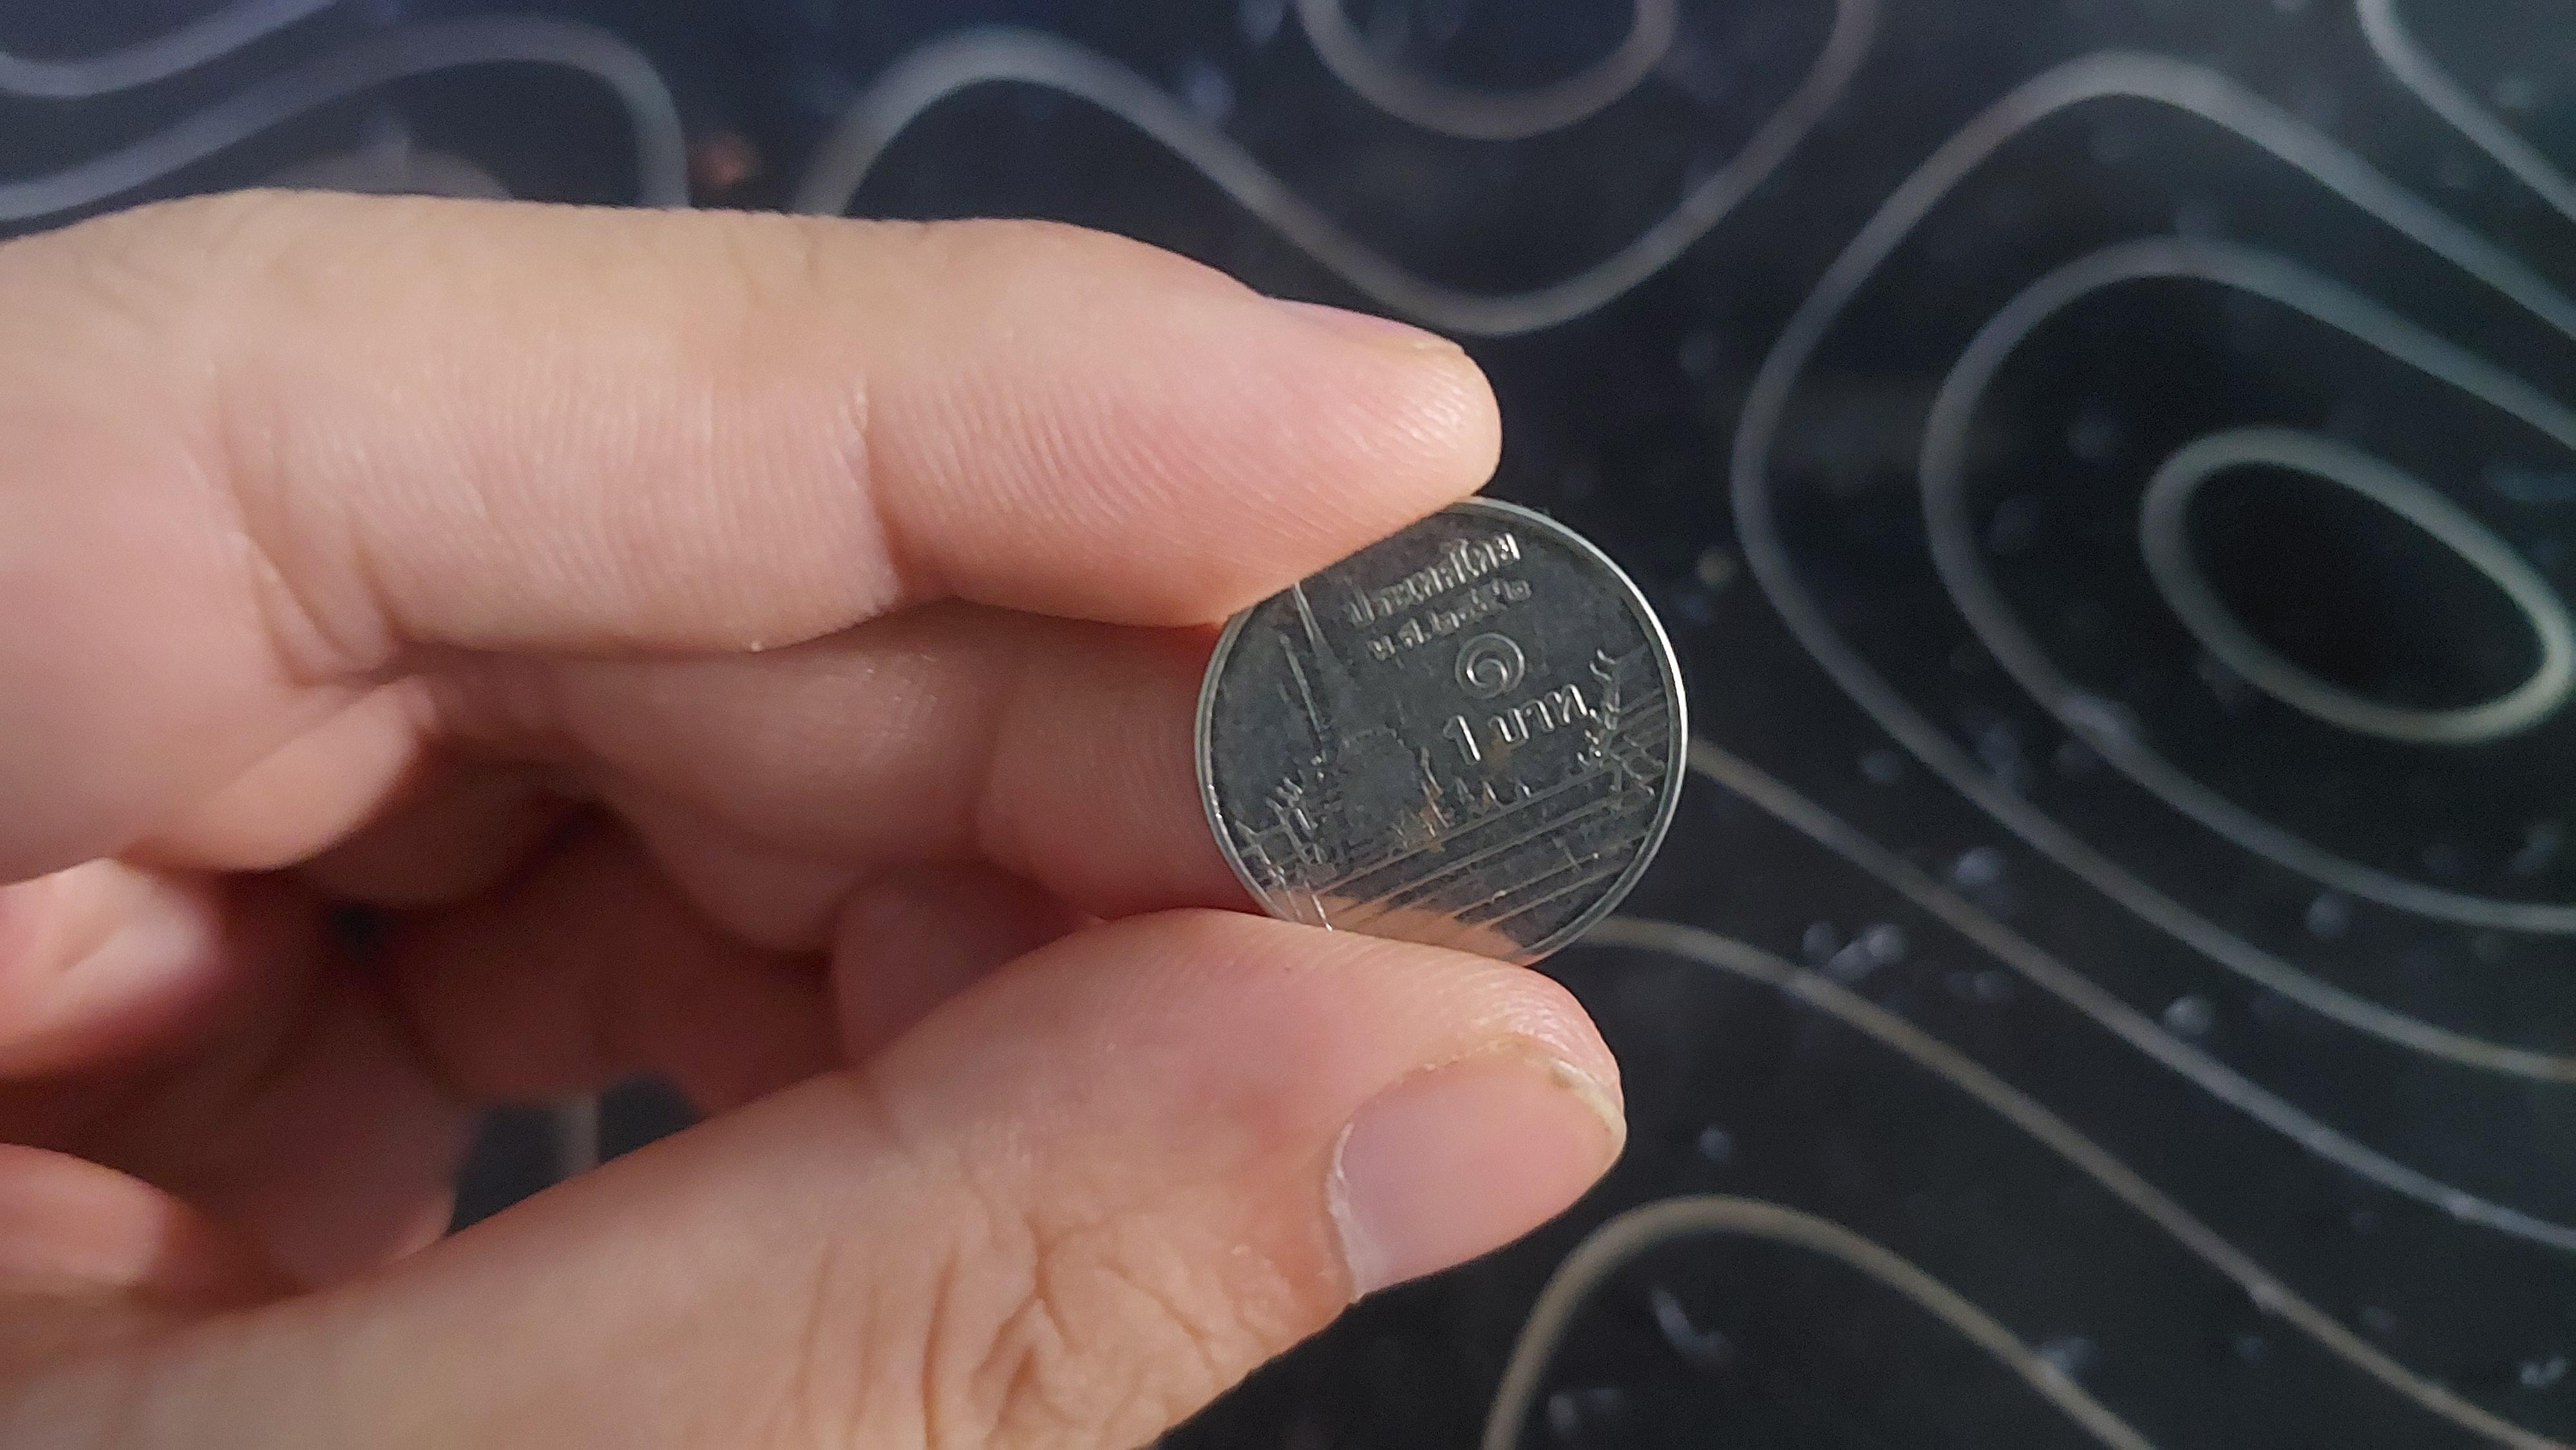1baht: (1185, 433, 1771, 1041)
